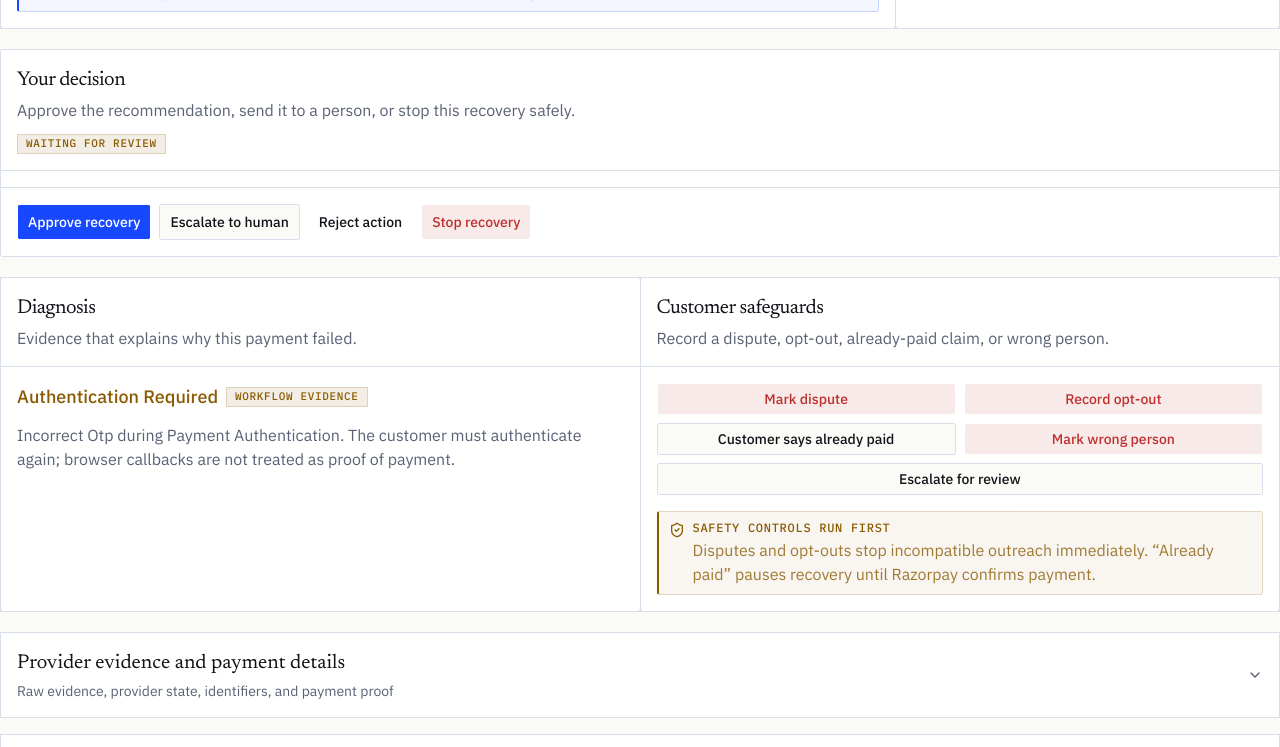
CaseWorkspace › requires confirmation before persisting an opt-out safety flow
(page scrolled)
Click the button "Record opt-out".
click(1113, 398)  # box left=964, top=382, right=1263, bottom=414
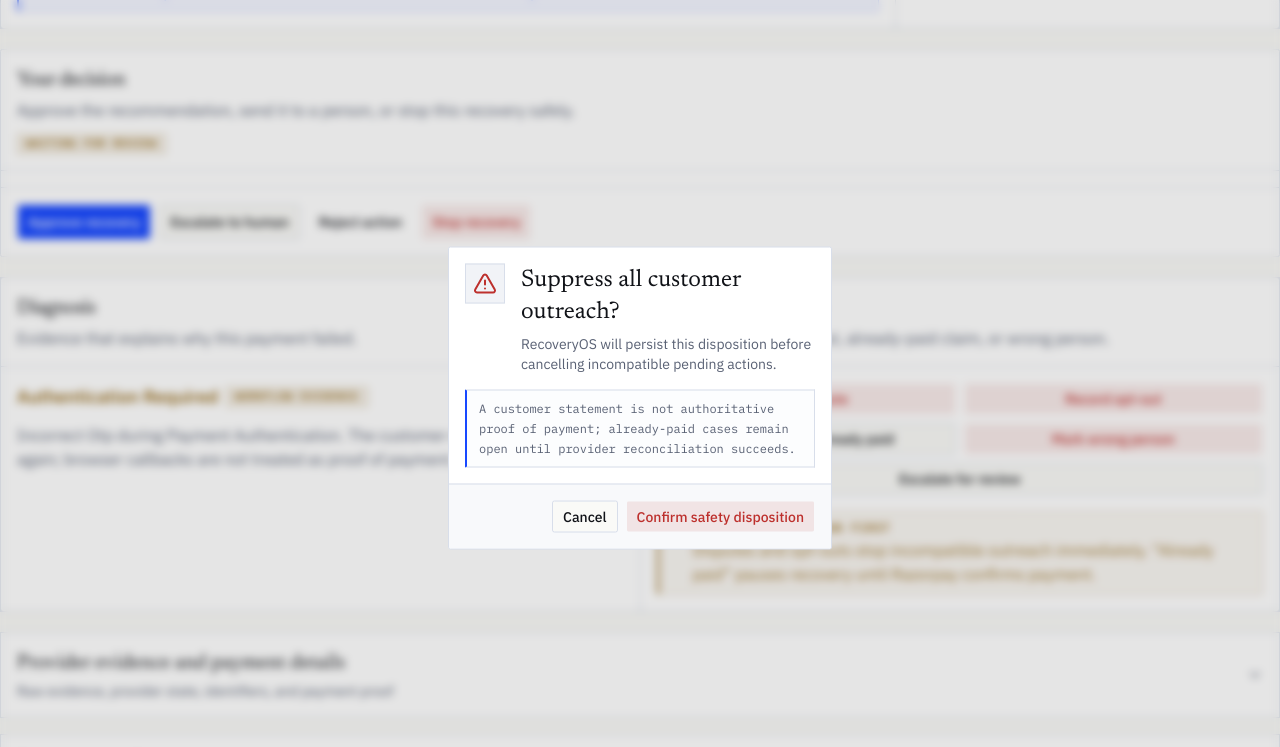
Expected: the dialog "Suppress all customer outreach?" is shown, left=448, top=246, right=832, bottom=550
Click the button "Confirm safety disposition".
click(720, 516)  # box left=626, top=500, right=815, bottom=532
(page scrolled)
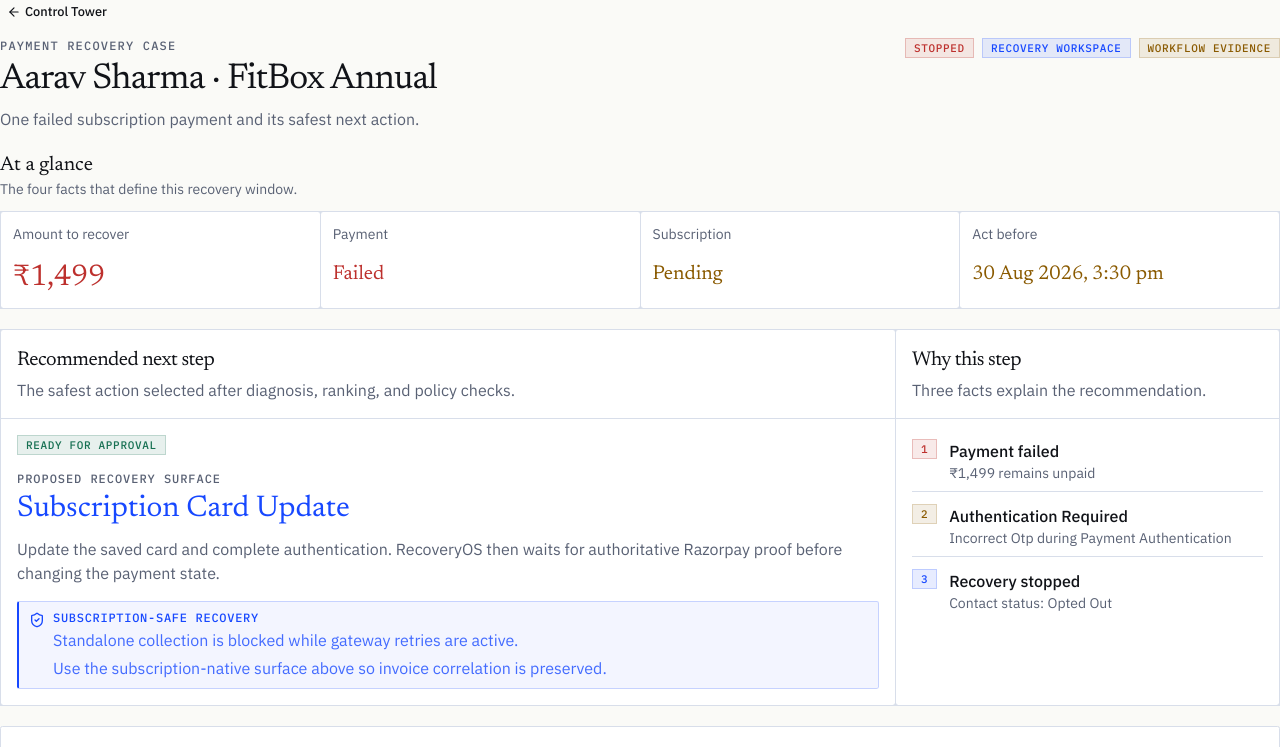
Expected: the text "Stopped" is shown, left=905, top=38, right=974, bottom=58
